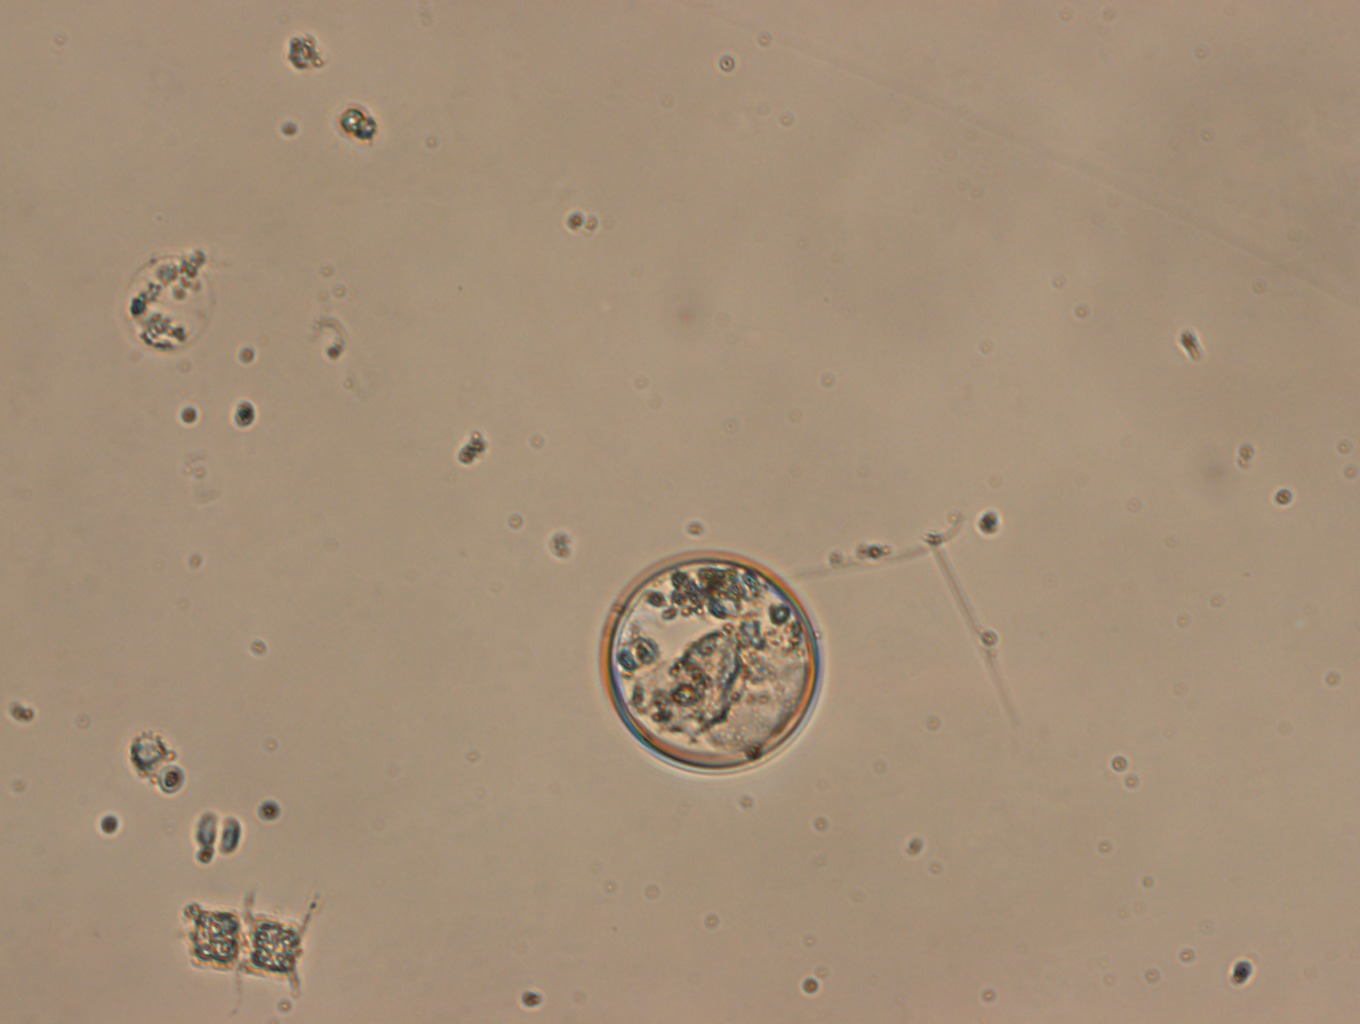coscinodiscus: (605, 554, 821, 773)
